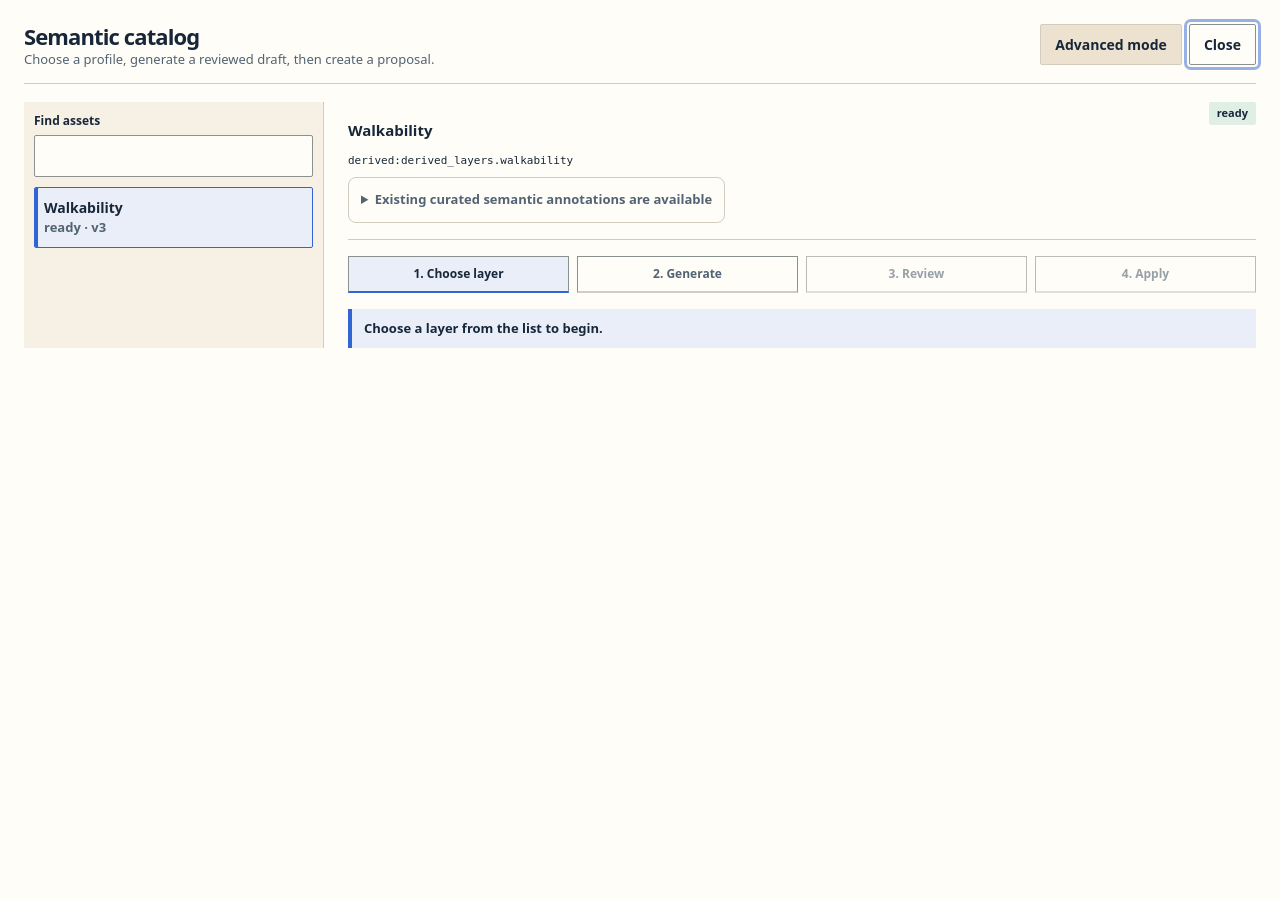
Test case: SemanticCatalog › advances to review when a saved field semantic is already current
Click the button "2. Generate". click: coordinates (688, 274)
box: [577,256,798,293]
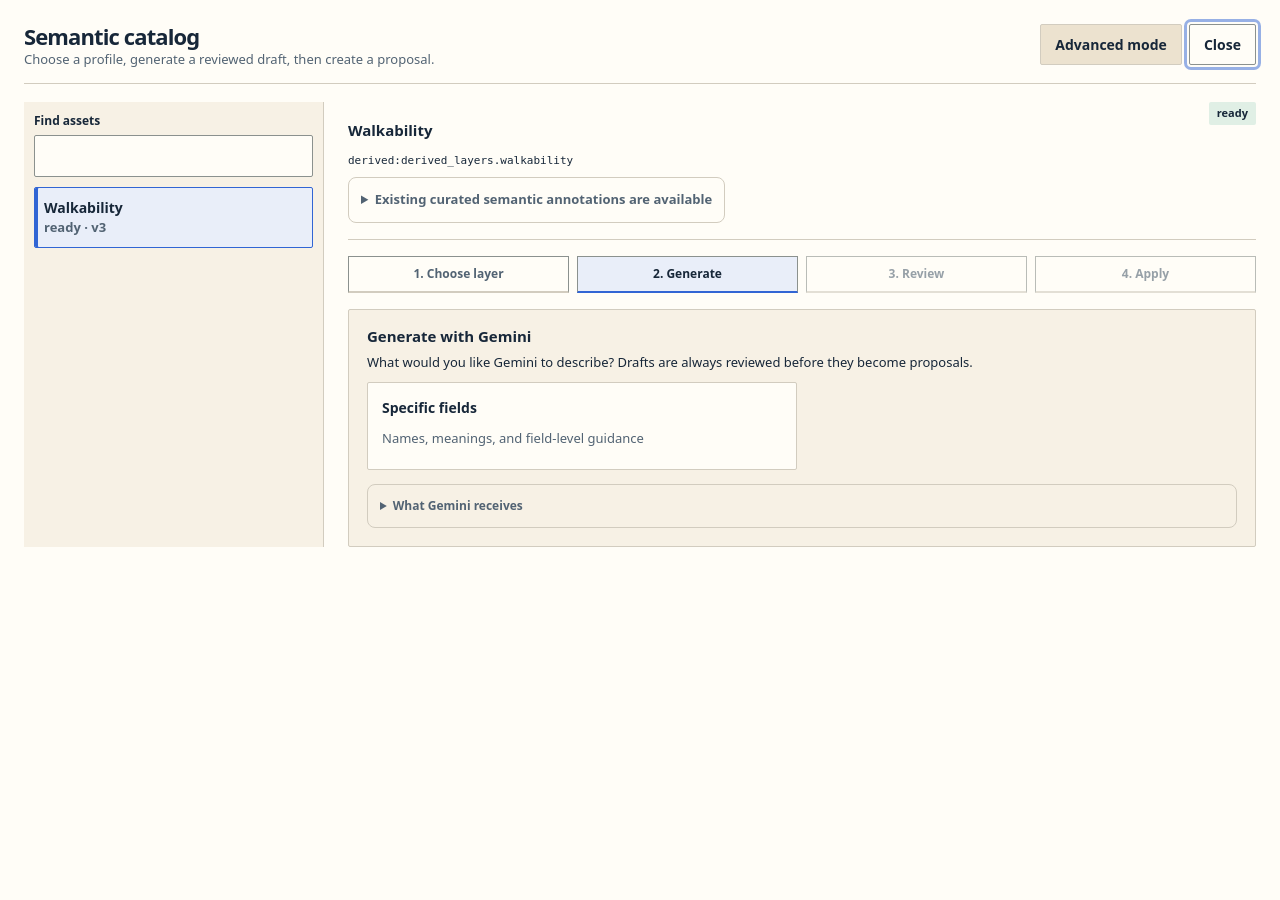
Click the button "Specific fields Names, meanings, and field-level guidance". click: coordinates (582, 426)
box: [367,382,797,470]
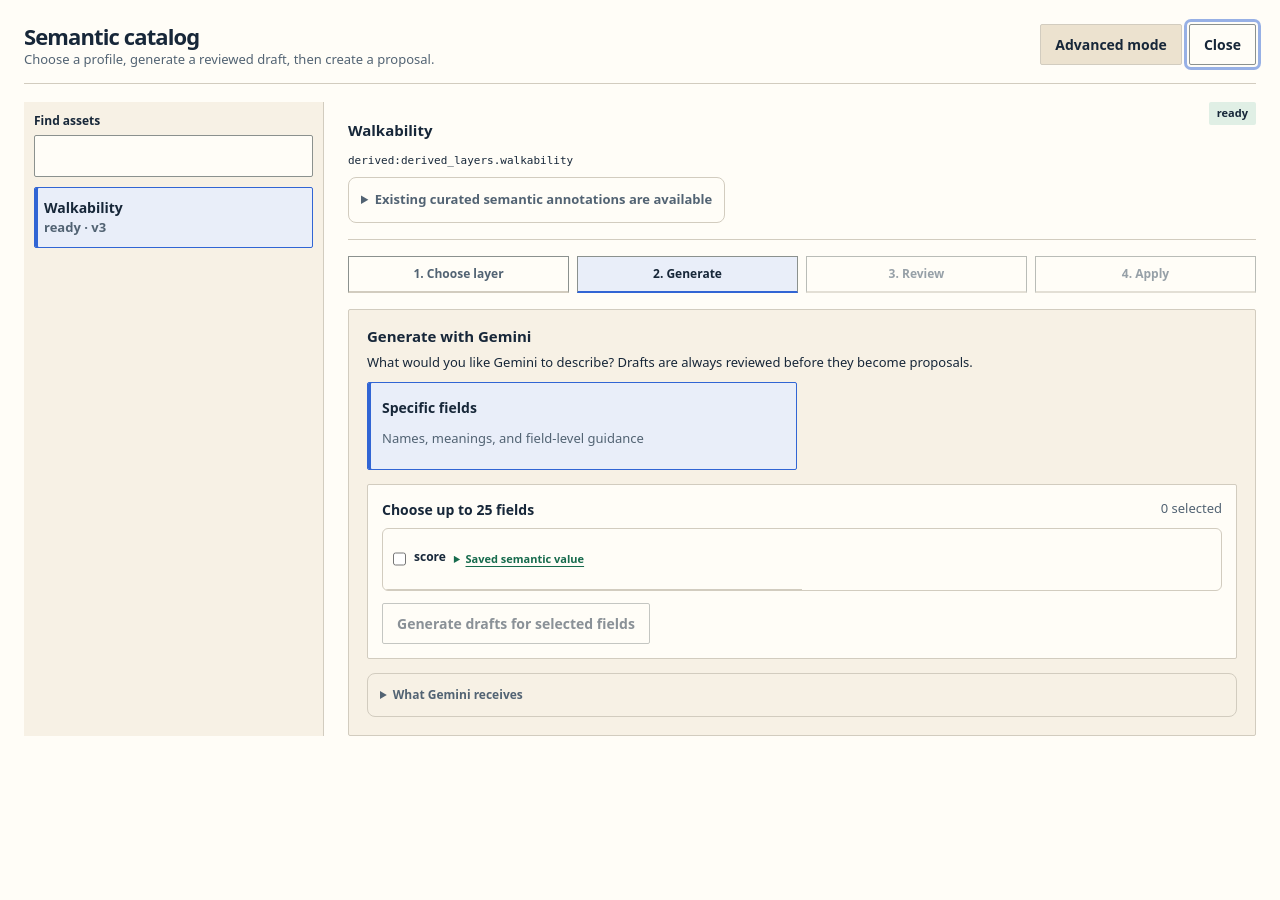
Click the checkbox labelled "score". click: coordinates (400, 559)
box: [393,538,406,580]
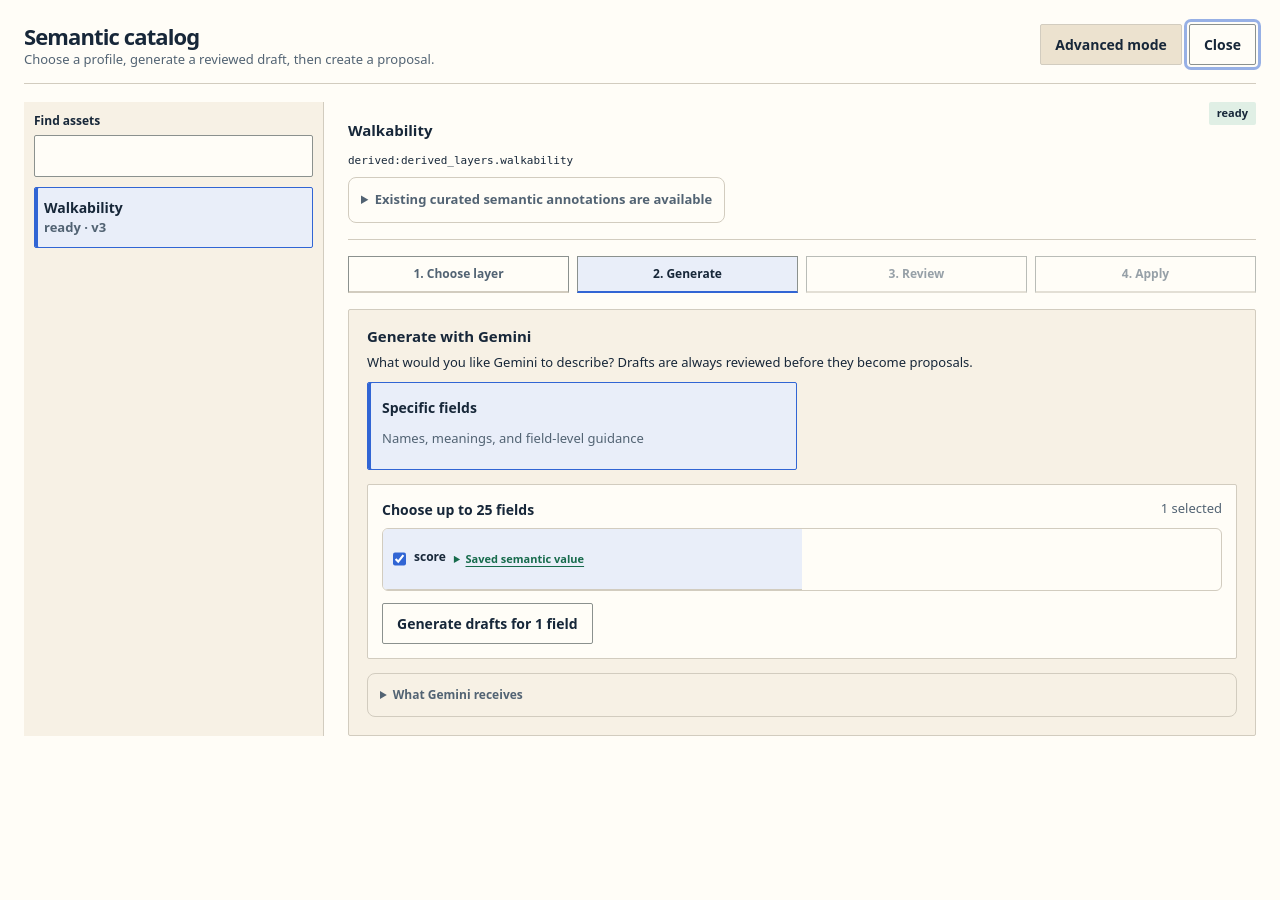
Click the button "Generate drafts for 1 field". click: coordinates (487, 624)
box: [382,603,593,644]
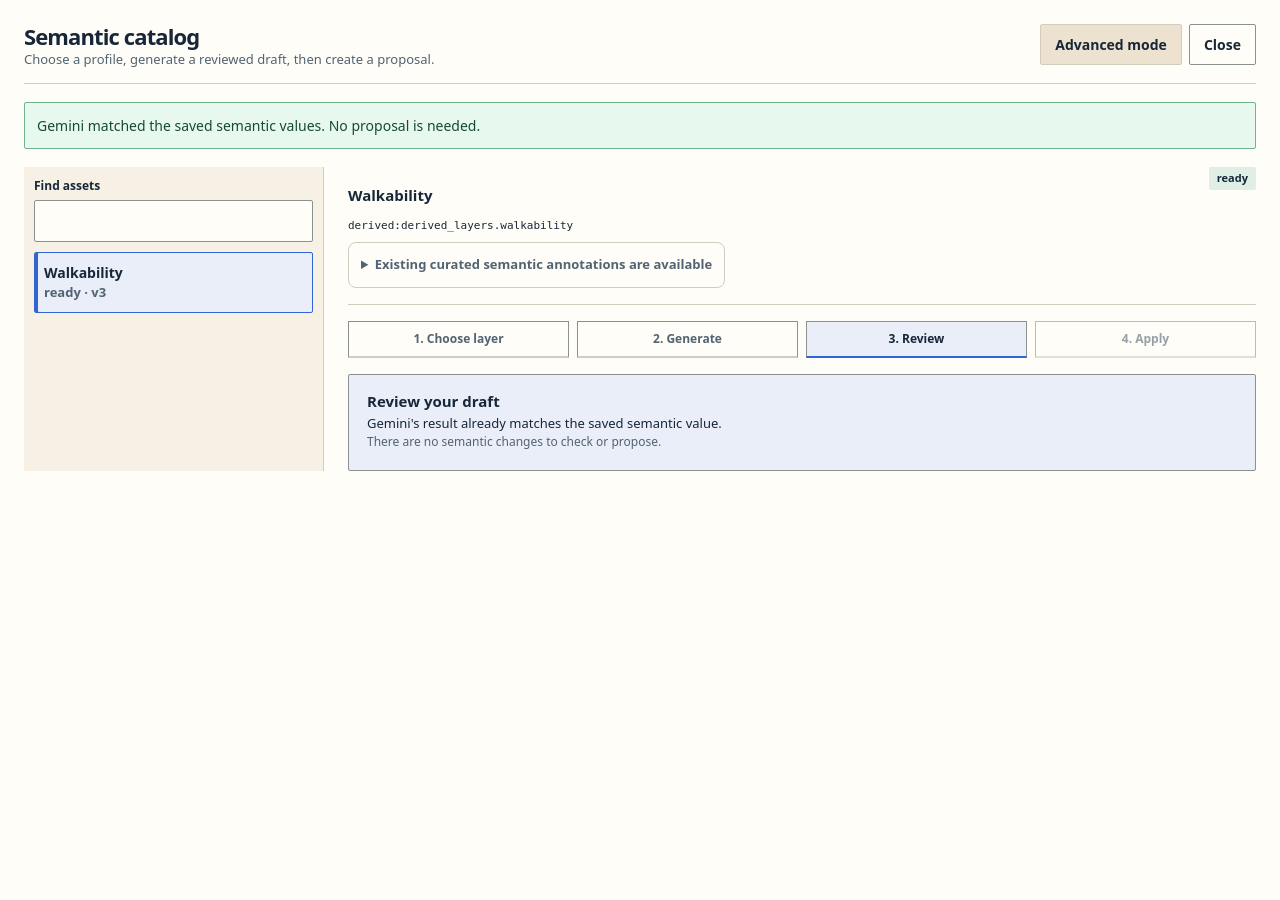
Now the heading "Review your draft" is shown, box [367,391,500,411]
Now the text "Gemini's result already matches the saved semantic value." is shown, box [367,414,722,432]
